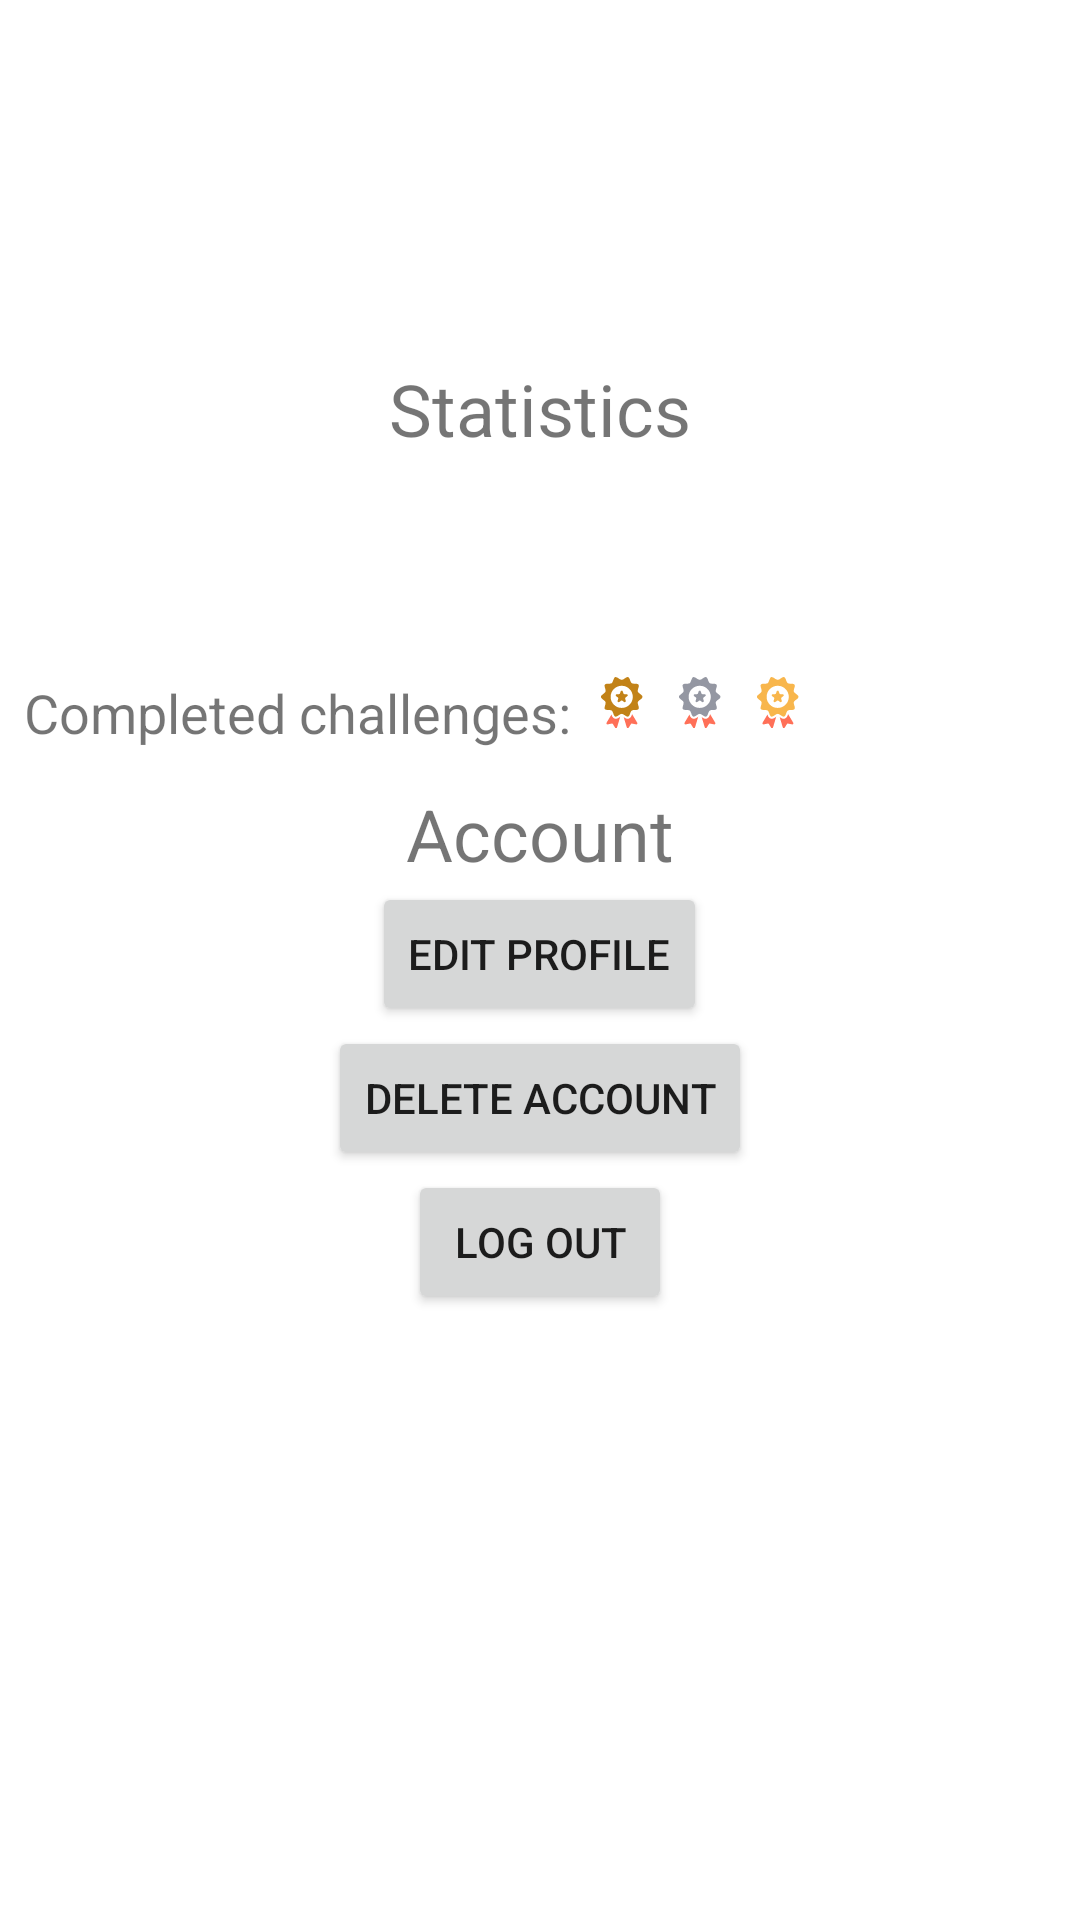

Point at icon controls on the screen. Image size 1080 × 1920, points as (x,y).
difficultbadge: (778,702)
easybadge: (622,702)
mediumbadge: (700,702)
